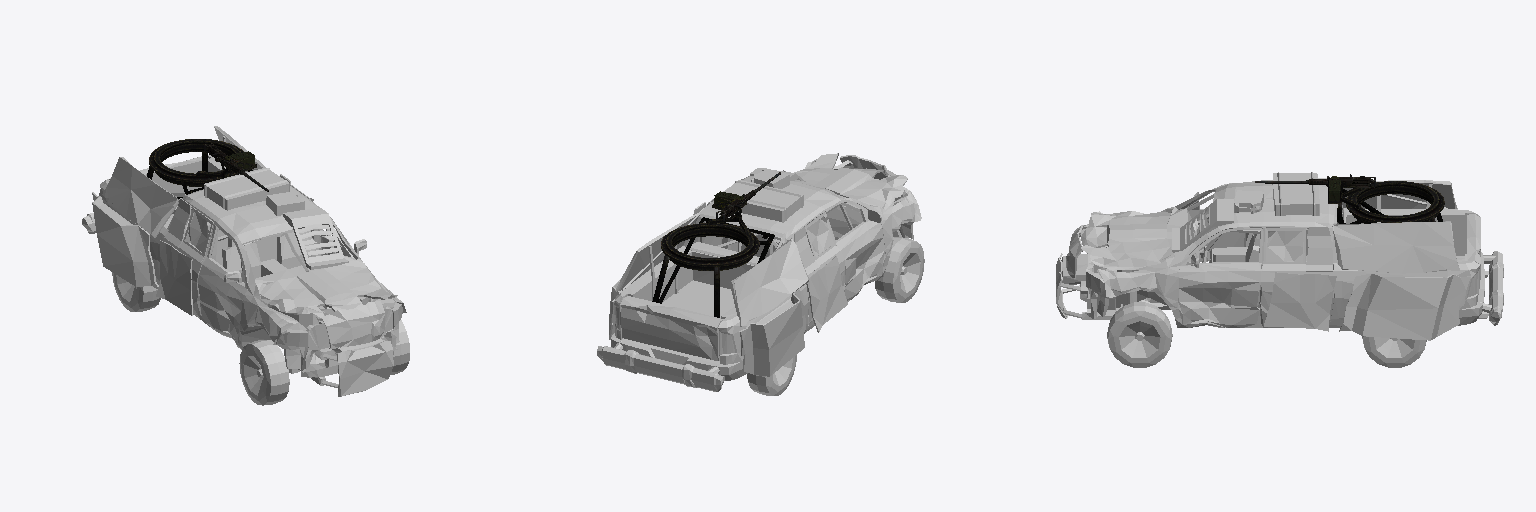
3 renders of one model, left to right at view 1: azimuth 30°, elevation 25°; view 2: azimuth 150°, elevation 25°; view 3: azimuth 270°, elevation 25°, orthographic.
Visible parts, largest first — view 1: mesh0165 Mesh, mesh0172 Mesh, mesh0166 Mesh, mesh0171 Mesh, mesh0161 Mesh, mesh0163 Mesh; view 2: mesh0165 Mesh, mesh0166 Mesh, mesh0161 Mesh, mesh0172 Mesh, mesh0171 Mesh, mesh0163 Mesh; view 3: mesh0165 Mesh, mesh0162 Mesh, mesh0170 Mesh, mesh0172 Mesh, mesh0161 Mesh, mesh0163 Mesh, mesh0171 Mesh.
Boxes of the visible parts, x1,y1,x2,y2 form: mesh0165 Mesh: [82, 126, 409, 405]; mesh0172 Mesh: [260, 260, 397, 317]; mesh0166 Mesh: [156, 198, 214, 315]; mesh0171 Mesh: [198, 225, 247, 345]; mesh0161 Mesh: [147, 139, 252, 198]; mesh0163 Mesh: [189, 143, 268, 191]; mesh0165 Mesh: [597, 155, 924, 395]; mesh0166 Mesh: [791, 212, 847, 332]; mesh0161 Mesh: [652, 217, 774, 317]; mesh0172 Mesh: [794, 153, 907, 209]; mesh0171 Mesh: [825, 199, 885, 298]; mesh0163 Mesh: [707, 172, 780, 233]; mesh0165 Mesh: [1056, 172, 1503, 367]; mesh0162 Mesh: [1259, 227, 1336, 331]; mesh0170 Mesh: [1178, 228, 1262, 324]; mesh0172 Mesh: [1080, 211, 1173, 270]; mesh0161 Mesh: [1337, 181, 1444, 223]; mesh0163 Mesh: [1255, 174, 1375, 218]; mesh0171 Mesh: [1187, 183, 1244, 262].
Size of the model in its own units: 5.48 by 4.97 by 12.67.
Materials: 9 (1 with a texture image).